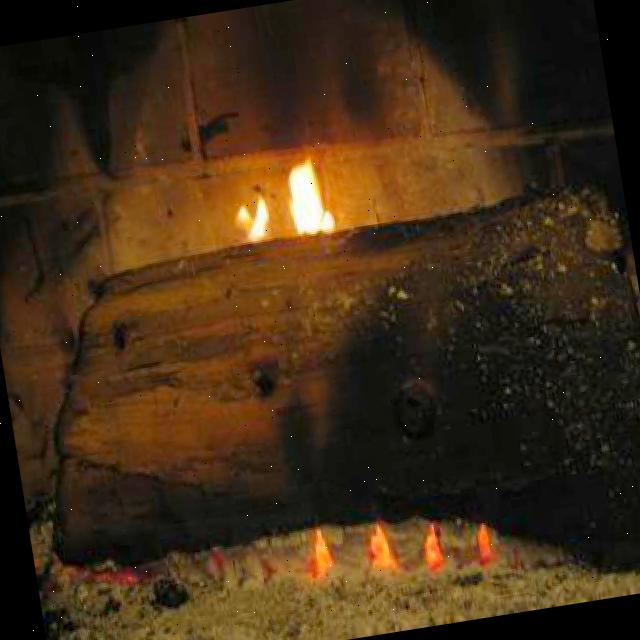fire: (224, 141, 342, 274)
